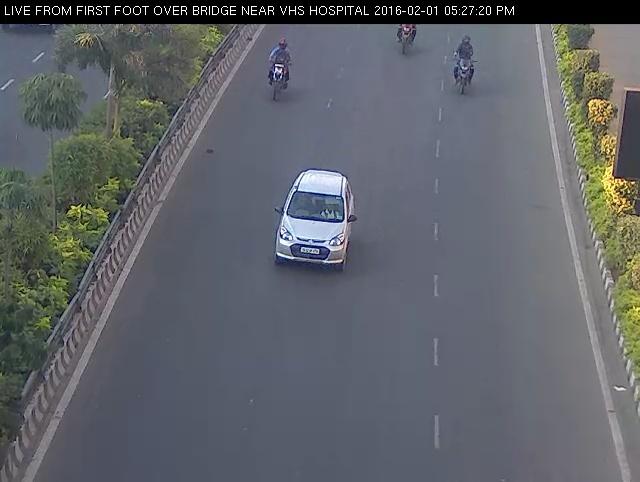Car: (269, 153, 358, 281)
Person: (447, 24, 480, 99), (261, 32, 296, 100), (390, 18, 423, 57)
